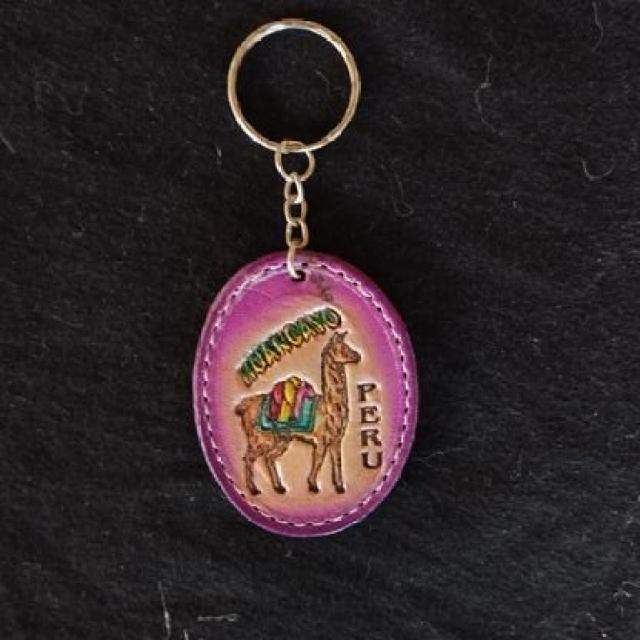Llavero: (192, 248, 419, 538)
